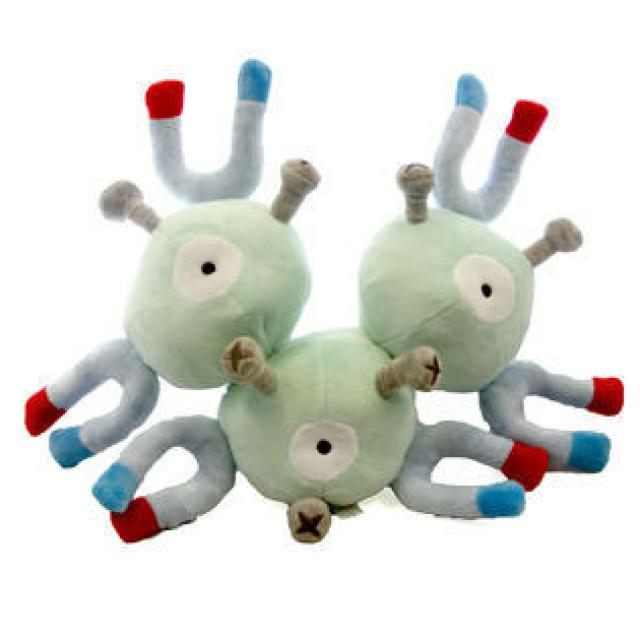Magneton: (84, 108, 582, 542)
